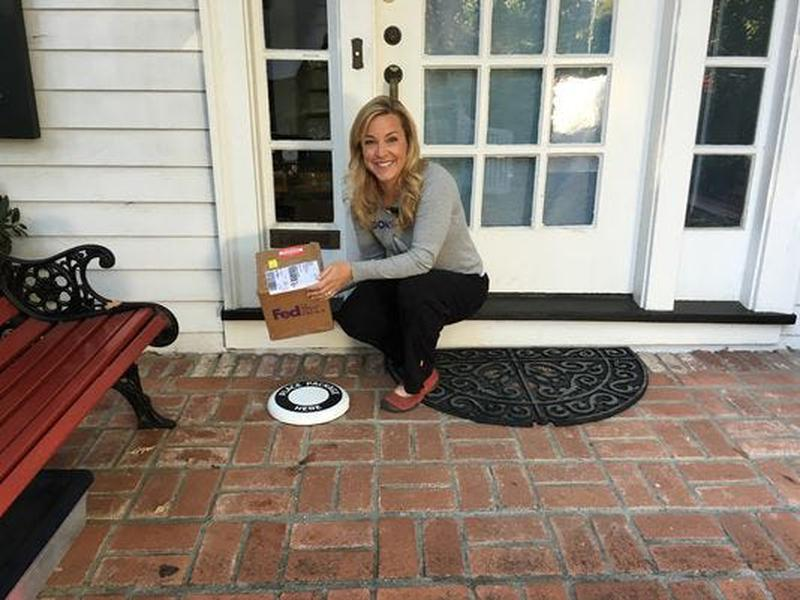package: (251, 238, 339, 344)
